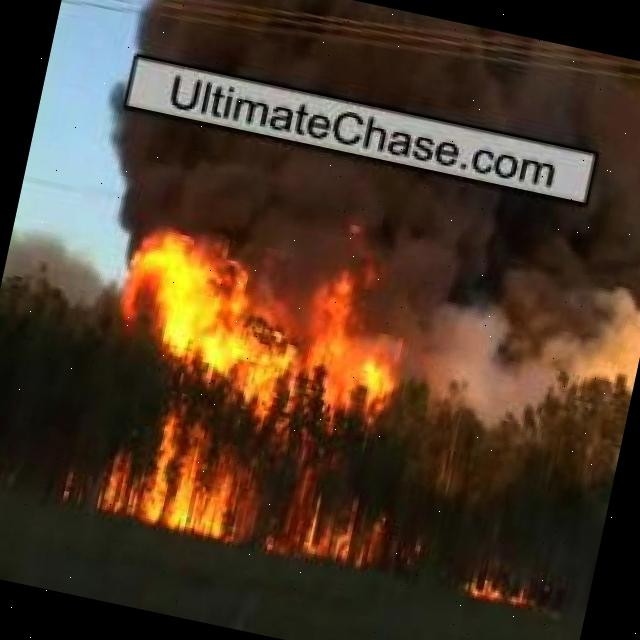fire: (74, 220, 442, 572), (462, 560, 534, 612)
